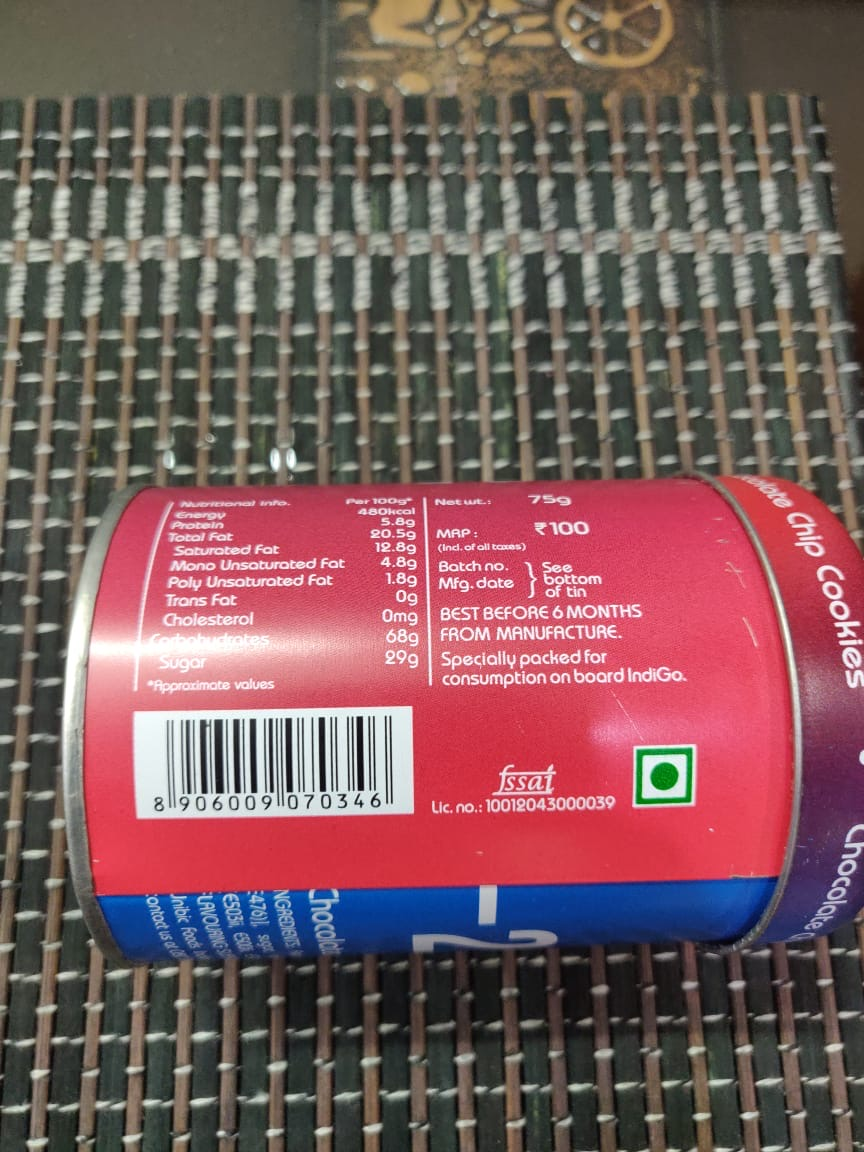barcode: (136, 708, 404, 815)
